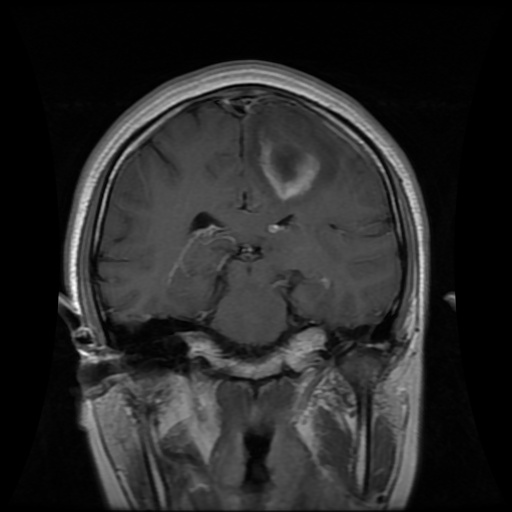glioma: (246, 105, 342, 207)
